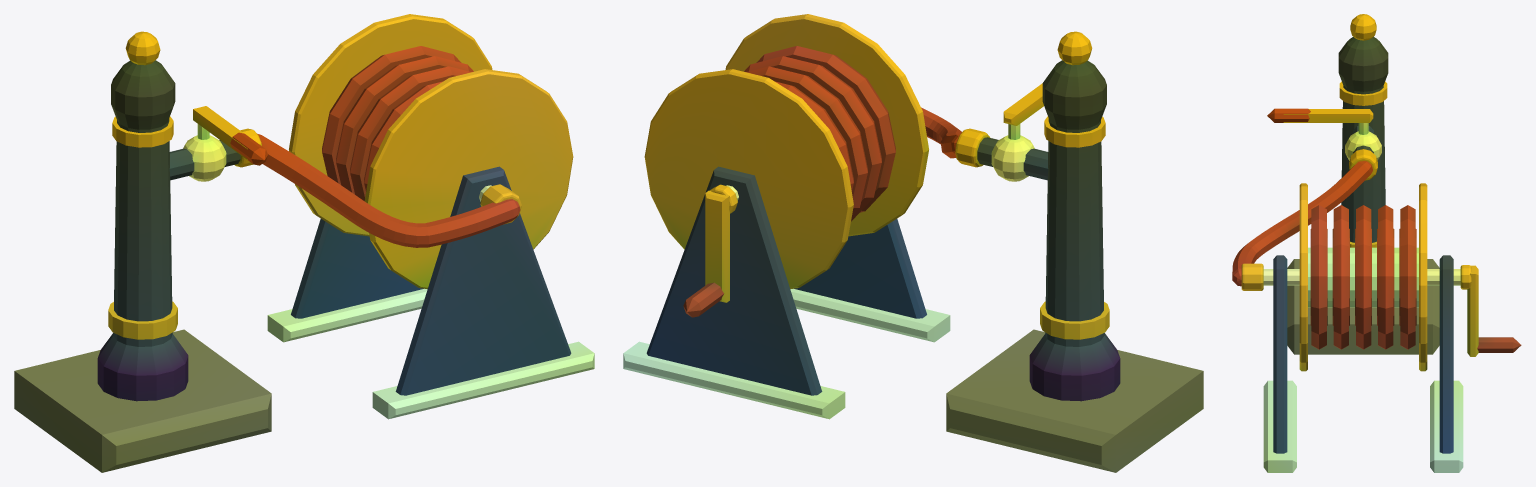
Rendered from Yard_HoseTap.fbx.
3 views of the same model, side by side, from view 1: azimuth 30°, elevation 25°; view 2: azimuth 150°, elevation 25°; view 3: azimuth 270°, elevation 25° (orthographic). The views are drawn at different scales.
Parts seen in each view (by area): view 1: Tap, Move_Reel, Move_Valve; view 2: Tap, Move_Reel, Move_Valve; view 3: Tap, Move_Reel, Move_Valve.
Boxes of the visible parts, left/top/right/bottom form: Tap: left=14, top=31, right=594, bottom=472; Move_Reel: left=289, top=14, right=573, bottom=288; Move_Valve: left=193, top=106, right=267, bottom=165; Tap: left=623, top=31, right=1203, bottom=472; Move_Reel: left=644, top=14, right=928, bottom=317; Move_Valve: left=1003, top=83, right=1043, bottom=139; Tap: left=1232, top=14, right=1463, bottom=472; Move_Reel: left=1299, top=183, right=1521, bottom=371; Move_Valve: left=1267, top=108, right=1373, bottom=134.
Bounding box in the file's own units: 1.57 × 1.22 × 1.04.
